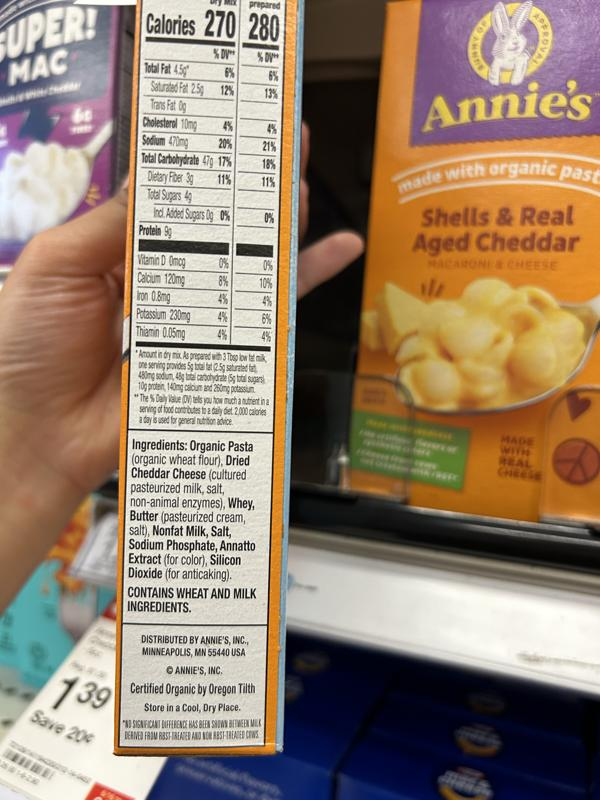ingredients: (127, 438, 259, 582)
